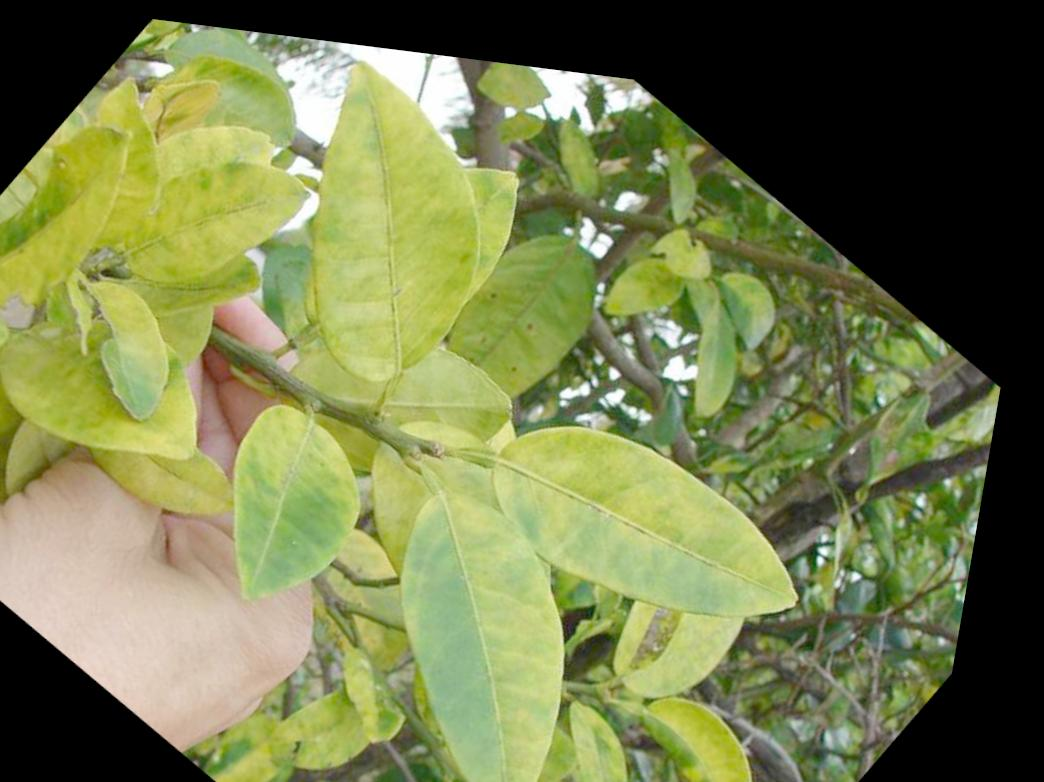Citrus Greening: (445, 336, 863, 693), (180, 25, 572, 403), (287, 442, 706, 782), (159, 368, 422, 630)
